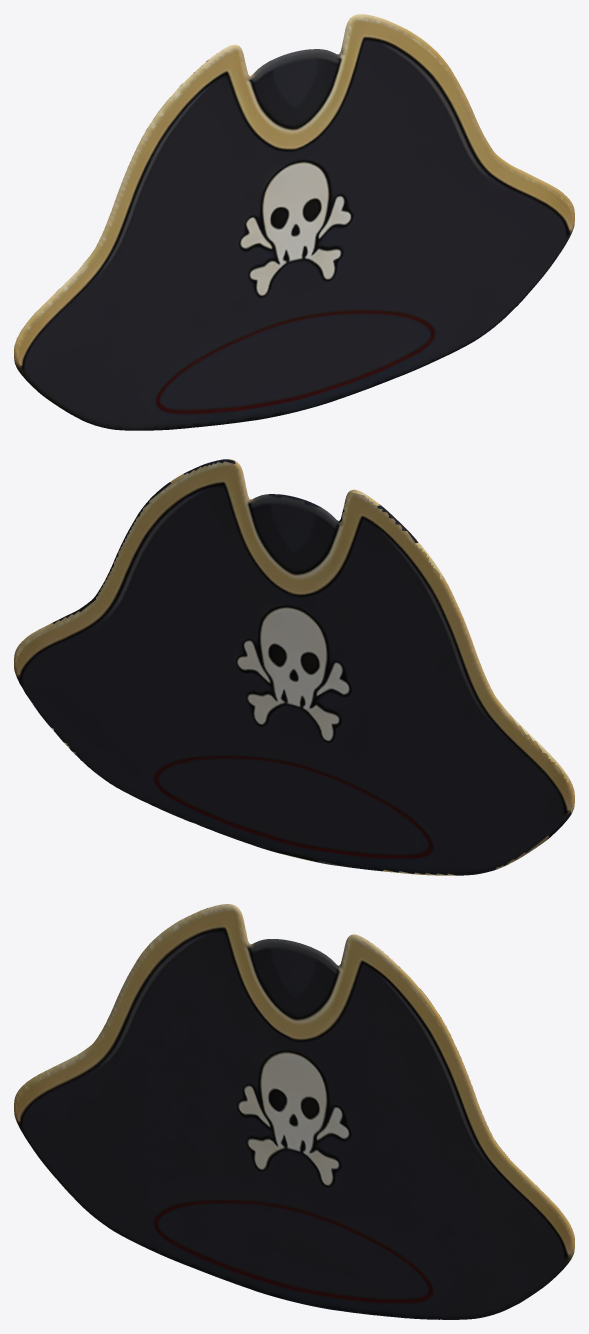
Rendered from item_pirate_hat.glb.
3 renders of one model, top to bottom at view 1: azimuth 30°, elevation 25°; view 2: azimuth 150°, elevation 25°; view 3: azimuth 330°, elevation 25°, orthographic.
Visible parts, largest first — view 1: tmphcjg5h5f.ply; view 2: tmphcjg5h5f.ply; view 3: tmphcjg5h5f.ply.
Part boxes in pixels (box(x1,y1,x2,y2)): tmphcjg5h5f.ply: box(14, 14, 574, 430); tmphcjg5h5f.ply: box(14, 459, 574, 875); tmphcjg5h5f.ply: box(14, 904, 574, 1319).
Bounding box in the file's own units: 1.99 × 1.3 × 0.0138.
Materials: 1 (1 with a texture image).
